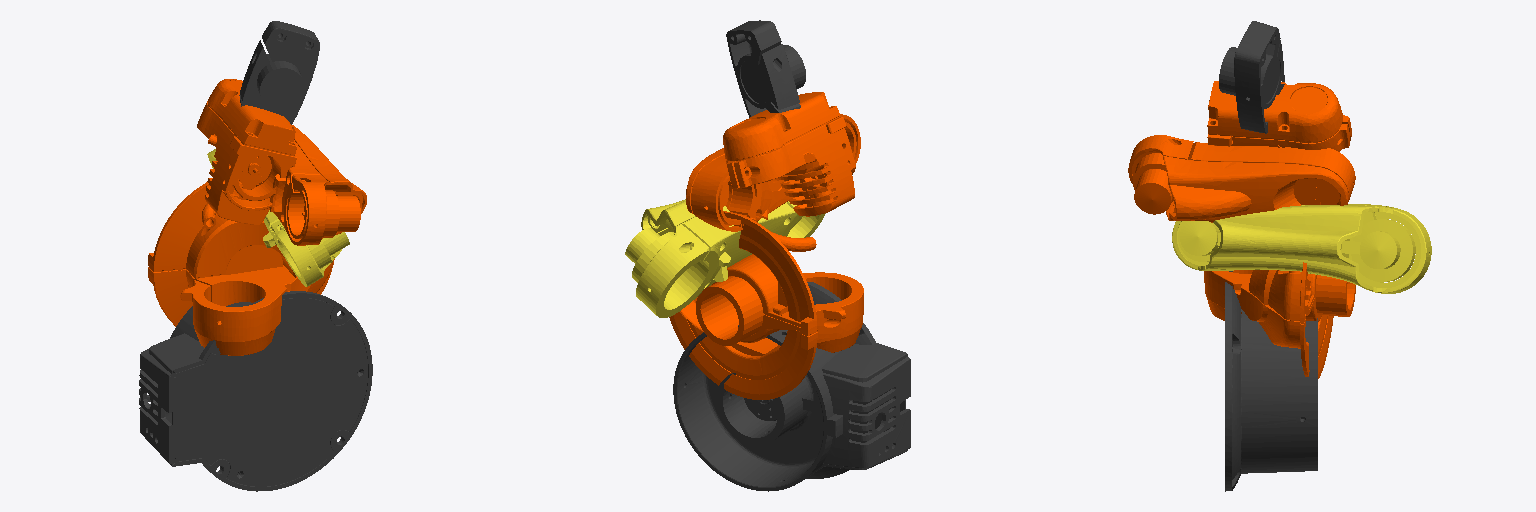
The robot description file, URDF, robot "youbot":
<?xml version="1.0" ?>
<!-- =================================================================================== -->
<!-- |    This document was autogenerated by xacro from youbot_description/robots/youbot_arm_only.urdf.xacro | -->
<!-- |    EDITING THIS FILE BY HAND IS NOT RECOMMENDED                                 | -->
<!-- =================================================================================== -->
<robot name="youbot" xmlns:controller="http://playerstage.sourceforge.net/gazebo/xmlschema/#controller" xmlns:interface="http://playerstage.sourceforge.net/gazebo/xmlschema/#interface" xmlns:sensor="http://playerstage.sourceforge.net/gazebo/xmlschema/#sensor" xmlns:xacro="http://ros.org/wiki/xacro">
  <!-- The following included files set up definitions of parts of the robot body -->
  <!-- misc common stuff? -->
  <!-- Casters -->
  <!-- materials for visualization -->
  <material name="youBot/Orange">
    <color rgba="1.0 0.4 0.0 1.0"/>
  </material>
  <material name="youBot/Grey">
    <color rgba="0.7 0.7 0.7 1.0"/>
  </material>
  <material name="youBot/DarkGrey">
    <color rgba="0.3 0.3 0.3 1.0"/>
  </material>
  <material name="youBot/White">
    <color rgba="1.0 1.0 1.0 1.0"/>
  </material>
  <material name="youBot/Black">
    <color rgba="0.0 0.0 0.0 1.0"/>
  </material>
  <material name="youBot/Red">
    <color rgba="1.0 0.0 0.0 1.0"/>
  </material>
  <material name="youBot/Green">
    <color rgba="0.0 1.0 0.0 1.0"/>
  </material>
  <material name="youBot/Blue">
    <color rgba="0.0 0.0 0.8 1.0"/>
  </material>
  <material name="youBot/LightGrey">
    <color rgba="0.82 0.82 0.82 1.0"/>
  </material>
  <!-- youbot arm -->
  <!-- reduction ratio doesn't affect the model-->
  <!-- reduction ratio must not to be 0-->
  &gt;

	
  <!-- common properties -->
  <!-- arm limits positions (deg) -->
  <!-- dynamic properties : mass (kg) Alu data sheet -->
  <!--<property name="link_0_mass" value="0.845" />
	<property name="link_1_mass" value="0.1" />
	<property name="link_2_mass" value="0.1" />
	<property name="link_3_mass" value="0.1" />
	<property name="link_4_mass" value="0.1" />
	<property name="link_5_mass" value="0.1" />-->
  <!-- TODO: add inertia tensor-->
  <!-- youbot arm -->
  <!-- common properties -->
  <!-- fingers limits, values are in meters -->
  <!-- controller manager -->
  <gazebo>
    <plugin filename="libgazebo_ros_control.so" name="gazebo_ros_controller"/>
  </gazebo>
  <!-- Now we can start using the macros included above to define the actual youbot -->
  <!-- The first use of a macro.  This one was defined in base.urdf.xacro above.
       A macro like this will expand to a set of link and joint definitions, and to additional
       Gazebo-related extensions (sensor plugins, etc).  The macro takes an argument, name, 
       that equals "base", and uses it to generate names for its component links and joints 
       (e.g., base_link).  The included origin block is also an argument to the macro.  By convention, 
       the origin block defines where the component is w.r.t its parent (in this case the parent 
       is the world frame). For more, see http://www.ros.org/wiki/xacro -->
  <!-- foot for arm-->
  <link name="base_link">
   <!--<inertial>
      <origin rpy="0 0 0" xyz="0 0 0"/>
      <mass value="10.0"/>
      <inertia ixx="0.1" ixy="0" ixz="0" iyy="0.1" iyz="0" izz="0.1"/>
    </inertial>-->
  </link>

  <!-- joint between base_link and arm_0_link -->
  <joint name="arm_joint_0" type="fixed">
    <origin rpy="0 0 0" xyz="0 0 0"/>
    <parent link="base_link"/>
    <child link="arm_link_0"/>
  </joint>
  <link name="arm_link_0">
    <inertial>
      <!--<origin xyz="0.023 0 0.006" rpy="0 0 0"/>-->
      <origin rpy="0 0 0" xyz="0 0 0"/>
      <mass value="0.961"/>
      <inertia ixx="0.01" ixy="0" ixz="0" iyy="0.01" iyz="0" izz="0.01"/>
    </inertial>
    <visual>
      <origin rpy="0 0 0" xyz="0 0 0"/>
      <geometry>
        <mesh filename="package://youbot_description/meshes/youbot_arm/arm0.stl"/>
      </geometry>
      <material name="youBot/DarkGrey"/>
    </visual>
    <collision>
      <!--<origin xyz="0.023 0 0.006" rpy="0 0 0"/>-->
      <origin rpy="0 0 0" xyz="0 0 0"/>
      <geometry>
        <mesh filename="package://youbot_description/meshes/youbot_arm/arm0_convex.stl"/>
        <!--<cylinder length="0.078" radius="0.093"/>-->
      </geometry>
    </collision>
  </link>
  <!-- joint between arm_0_link and arm_1_link -->
  <joint name="arm_joint_1" type="revolute">
    <origin rpy="0 0 2.96705972839" xyz="0.024 0 0.096"/>
    <parent link="arm_link_0"/>
    <child link="arm_link_1"/>
    <axis xyz="0 0 -1"/>
    <!--<calibration rising="${arm_1_ref}" falling="${arm_1_ref}"/>-->
    <dynamics damping="1" friction="1"/>
    <!-- damping - N*s/m, N*s*m/rad -->
    <!-- friction - N, N*m -->
    <limit effort="9.5" lower="0" upper="5.89921287174" velocity="1.57079632679"/>
    <!--effort - N, N*m-->
    <!--velocity - m/s, rad/s-->
    <!--safety_controller k_position="20" k_velocity="${9.5/M_PI / 2.0}" soft_lower_limit="${threshold}" soft_upper_limit="${joint_1_limit_soft}" /-->
    <!--k_position N/m, N/rad-->
    <!--k_velocity N*s/m, N*s*m/rad-->
    <!--for details: http://www.ros.org/wiki/pr2_controller_manager/safety_limits-->
  </joint>
  <link name="arm_link_1">
    <inertial>
      <mass value="1.39"/>
      <origin rpy="0 0 0" xyz="0.01489 0.00213 0.00213"/>
      <inertia ixx="0.0029525" ixy="0.0" ixz="0.0" iyy="0.0060091" iyz="0.0" izz="0.0058821"/>
    </inertial>
    <visual>
      <origin rpy="0 0 0" xyz="0 0 0"/>
      <geometry>
        <mesh filename="package://youbot_description/meshes/youbot_arm/arm1.stl"/>
      </geometry>
      <material name="youBot/Orange"/>
    </visual>
    <collision>
      <!--<origin xyz="0 0 -0.003" rpy="0 0 0" />-->
      <origin rpy="0 0 0" xyz="0 0 0"/>
      <geometry>
        <mesh filename="package://youbot_description/meshes/youbot_arm/arm1_convex.stl"/>
        <!--<cylinder length="0.102" radius="0.080"/>-->
      </geometry>
    </collision>
  </link>
  <!-- joint between arm_1_link and arm_2_link -->
  <joint name="arm_joint_2" type="revolute">
    <origin rpy="0 -1.1344640138 0" xyz="0.033 0 0.019"/>
    <parent link="arm_link_1"/>
    <child link="arm_link_2"/>
    <axis xyz="0 1 0"/>
    <!--<calibration rising="${arm_2_ref}" falling="${arm_2_ref}"/>-->
    <dynamics damping="1" friction="1"/>
    <limit effort="9.5" lower="0" upper="2.70526034059" velocity="1.57079632679"/>
    <!--safety_controller k_position="20" k_velocity="${2*9.5/M_PI}" soft_lower_limit="${threshold}" soft_upper_limit="${joint_2_limit_soft}" /-->
  </joint>
  <link name="arm_link_2">
    <inertial>
      <mass value="1.318"/>
      <origin rpy="0 0 0" xyz="0.01053 -0.0307 0.08597"/>
      <inertia ixx="0.0031145" ixy="0.0" ixz="0.0" iyy="0.0005843" iyz="0.0" izz="0.0031631"/>
    </inertial>
    <visual>
      <origin rpy="0 0 0" xyz="0 -0.032 0.078"/>
      <geometry>
        <mesh filename="package://youbot_description/meshes/youbot_arm/arm2.stl"/>
      </geometry>
    </visual>
    <collision>
      <!--<origin xyz="0.001 -0.041 0.074" rpy="0 0 0" />-->
      <origin rpy="0 0 0" xyz="0 -0.032 0.078"/>
      <geometry>
        <mesh filename="package://youbot_description/meshes/youbot_arm/arm2_convex.stl"/>
        <!--<box size="0.074 0.082 0.222"/>-->
      </geometry>
    </collision>
  </link>
  <!-- joint between arm_2_link and arm_3_link -->
  <!--<joint name="${name}_joint_3" type="revolute">
			<origin xyz="0.000 0.000 0.155" rpy="0 ${146 * M_PI / 180} 0"/>
			<parent link="${name}_link_2"/>
			<child link="${name}_link_3"/>
			<axis xyz="0 1 0"/>
			<dynamics damping="1" friction="1" />
			<limit effort="${6}" velocity="${M_PI / 2.0}" lower="-${joint_3_limit}" upper="0"/>
      <safety_controller k_position="20" k_velocity="50" soft_lower_limit="-${joint_3_limit_soft}" soft_upper_limit="${threshold}" />
		</joint>-->
  <joint name="arm_joint_3" type="revolute">
    <origin rpy="0 2.54818070791 0" xyz="0.000 0.000 0.155"/>
    <parent link="arm_link_2"/>
    <child link="arm_link_3"/>
    <axis xyz="0 1 0"/>
    <dynamics damping="1" friction="1"/>
    <limit effort="6.0" lower="-5.18362787842" upper="0" velocity="1.57079632679"/>
    <!--safety_controller k_position="20" k_velocity="50" soft_lower_limit="-${joint_3_limit_soft}" soft_upper_limit="-${threshold}" /-->
  </joint>
  <link name="arm_link_3">
    <inertial>
      <mass value="0.821"/>
      <origin rpy="0 0 0" xyz="0.0001 0.0207 0.07107"/>
      <inertia ixx="0.00172767" ixy="0.0" ixz="0.0" iyy="0.00041967" iyz="0.0" izz="0.0018468"/>
    </inertial>
    <visual>
      <origin rpy="0 0 0" xyz="0.000 0.028 0.079"/>
      <geometry>
        <mesh filename="package://youbot_description/meshes/youbot_arm/arm3.stl"/>
      </geometry>
      <material name="youBot/Orange"/>
    </visual>
    <collision>
      <!--<origin xyz="0.000 0.025 0.067" rpy="0 0 0" />-->
      <origin rpy="0 0 0" xyz="0.000 0.028 0.079"/>
      <geometry>
        <mesh filename="package://youbot_description/meshes/youbot_arm/arm3_convex.stl"/>
        <!--<box size="0.064 0.054 0.192"/>-->
      </geometry>
    </collision>
  </link>
  <!-- joint between arm_3_link and arm_4_link -->
  <joint name="arm_joint_4" type="revolute">
    <origin rpy="0 -1.78896248329 0" xyz="0.000 0.000 0.135"/>
    <parent link="arm_link_3"/>
    <child link="arm_link_4"/>
    <axis xyz="0 1 0"/>
    <!--<calibration rising="${arm_4_ref}" falling="${arm_4_ref}"/>-->
    <dynamics damping="1" friction="1"/>
    <limit effort="2.0" lower="0" upper="3.57792496659" velocity="1.57079632679"/>
    <!--safety_controller k_position="20" k_velocity="100" soft_lower_limit="0" soft_upper_limit="${joint_4_limit_soft}" /-->
  </joint>
  <link name="arm_link_4">
    <inertial>
      <mass value="0.769"/>
      <origin rpy="0 0 0" xyz="0.00011 -0.02 0.05019"/>
      <inertia ixx="0.0006764" ixy="0.0" ixz="0.0" iyy="0.0010573" iyz="0.0" izz="0.0006610"/>
    </inertial>
    <visual>
      <origin rpy="0 0 0" xyz="0 -0.010 0.029"/>
      <geometry>
        <mesh filename="package://youbot_description/meshes/youbot_arm/arm4.stl"/>
      </geometry>
      <material name="youBot/Orange"/>
    </visual>
    <collision>
      <!--<origin xyz="0 0 0.026" rpy="0 0 0" />-->
      <origin rpy="0 0 0" xyz="0 -0.010 0.029"/>
      <geometry>
        <mesh filename="package://youbot_description/meshes/youbot_arm/arm4_convex.stl"/>
        <!--<box size="0.058 0.100 0.118"/>-->
      </geometry>
    </collision>
  </link>


  <!-- joint between arm_4_link and arm_5_link -->
  <joint name="arm_joint_5" type="revolute">
    <origin rpy="0 0 2.92342649709" xyz="-0.002 0 0.130"/>
    <parent link="arm_link_4"/>
    <child link="arm_link_5"/>
    <axis xyz="0 0 -1"/>
    <!--<calibration rising="${arm_5_ref}" falling="${arm_5_ref}"/>-->
    <dynamics damping="1" friction="1"/>
    <limit effort="1.0" lower="0" upper="5.84685299418" velocity="1.57079632679"/>
    <!--safety_controller k_position="20" k_velocity="100" soft_lower_limit="0" soft_upper_limit="${joint_5_limit_soft}" /-->
  </joint>
  <link name="arm_link_5">
    <inertial>
      <mass value="0.687"/>
      <origin rpy="0 0 0" xyz="0.0 0.00115 -0.01683"/>
      <inertia ixx="0.0001934" ixy="0.0" ixz="0.0" iyy="0.0001602" iyz="0.0" izz="0.0000689"/>
    </inertial>
    <visual>
      <origin rpy="0 0 0" xyz="0.003 0 -0.034"/>
      <geometry>
        <mesh filename="package://youbot_description/meshes/youbot_arm/arm5.stl"/>
      </geometry>
      <material name="youBot/DarkGrey"/>
    </visual>
    <collision>
      <origin rpy="0 0 0" xyz="0.003 0 -0.034"/>
      <geometry>
        <mesh filename="package://youbot_description/meshes/youbot_arm/arm5_convex.stl"/>
        <!--<box size="0.054 0.096 0.030"/>-->
      </geometry>
    </collision>
  </link>

  
  <!-- extensions -->
  <gazebo reference="arm_link_0">
    <turnGravityOff>false</turnGravityOff>
  </gazebo>
  <gazebo reference="arm_link_1">
    <turnGravityOff>false</turnGravityOff>
  </gazebo>
  <gazebo reference="arm_link_2">
    <turnGravityOff>false</turnGravityOff>
  </gazebo>
  <gazebo reference="arm_link_3">
    <turnGravityOff>false</turnGravityOff>
  </gazebo>
  <gazebo reference="arm_link_4">
    <turnGravityOff>false</turnGravityOff>
  </gazebo>
  <gazebo reference="arm_link_5">
    <turnGravityOff>false</turnGravityOff>
  </gazebo>
  <transmission name="arm_trans_1">
    <type>transmission_interface/SimpleTransmission</type>
    <actuator name="arm_motor_1">
      <hardwareInterface>EffortJointInterface</hardwareInterface>
      <mechanicalReduction>1</mechanicalReduction>
    </actuator>
    <joint name="arm_joint_1">
      <hardwareInterface>EffortJointInterface</hardwareInterface>
    </joint>
  </transmission>
  <transmission name="arm_trans_2">
    <type>transmission_interface/SimpleTransmission</type>
    <actuator name="arm_motor_2">
      <hardwareInterface>EffortJointInterface</hardwareInterface>
      <mechanicalReduction>1</mechanicalReduction>
    </actuator>
    <joint name="arm_joint_2">
      <hardwareInterface>EffortJointInterface</hardwareInterface>
    </joint>
  </transmission>
  <transmission name="arm_trans_3">
    <type>transmission_interface/SimpleTransmission</type>
    <actuator name="arm_motor_3">
      <hardwareInterface>EffortJointInterface</hardwareInterface>
      <mechanicalReduction>1</mechanicalReduction>
    </actuator>
    <joint name="arm_joint_3">
      <hardwareInterface>EffortJointInterface</hardwareInterface>
    </joint>
  </transmission>
  <transmission name="arm_trans_4">
    <type>transmission_interface/SimpleTransmission</type>
    <actuator name="arm_motor_4">
      <hardwareInterface>EffortJointInterface</hardwareInterface>
      <mechanicalReduction>1</mechanicalReduction>
    </actuator>
    <joint name="arm_joint_4">
      <hardwareInterface>EffortJointInterface</hardwareInterface>
    </joint>
  </transmission>
  <transmission name="arm_trans_5">
    <type>transmission_interface/SimpleTransmission</type>
    <actuator name="arm_motor_5">
      <hardwareInterface>EffortJointInterface</hardwareInterface>
      <mechanicalReduction>1</mechanicalReduction>
    </actuator>
    <joint name="arm_joint_5">
      <hardwareInterface>EffortJointInterface</hardwareInterface>
    </joint>
  </transmission>
 
</robot>

--- Facts derived from the render (not from the file) ---
3 views of the same robot in one strip: view 1: azimuth 30°, elevation 25°; view 2: azimuth 150°, elevation 25°; view 3: azimuth 270°, elevation 25° (orthographic).
Model youbot with 7 links and 6 joints (5 revolute, 1 fixed), rooted at base_link, posed every joint at zero.
Visible links, largest first — view 1: arm_link_0, arm_link_1, arm_link_4, arm_link_3, arm_link_5, arm_link_2; view 2: arm_link_0, arm_link_1, arm_link_4, arm_link_2, arm_link_5, arm_link_3; view 3: arm_link_2, arm_link_3, arm_link_0, arm_link_1, arm_link_4, arm_link_5.
Boxes of the visible links, x1,y1,x2,y2 form: arm_link_0: (139,291,372,491); arm_link_1: (148,179,334,355); arm_link_4: (197,79,296,224); arm_link_3: (256,125,366,245); arm_link_5: (239,21,319,124); arm_link_2: (207,149,349,286); arm_link_0: (673,282,910,491); arm_link_1: (669,211,863,399); arm_link_4: (723,92,855,216); arm_link_2: (625,199,825,317); arm_link_5: (726,20,805,117); arm_link_3: (686,114,860,231); arm_link_2: (1172,204,1431,293); arm_link_3: (1128,135,1355,222); arm_link_0: (1225,271,1317,491); arm_link_1: (1204,262,1355,378); arm_link_4: (1207,81,1351,151); arm_link_5: (1219,21,1284,133).
Size in the robot's own frame: 0.21 by 0.2559 by 0.4332 metres.
6 mesh visuals loaded from 6 distinct referenced files (6 binary STL).
